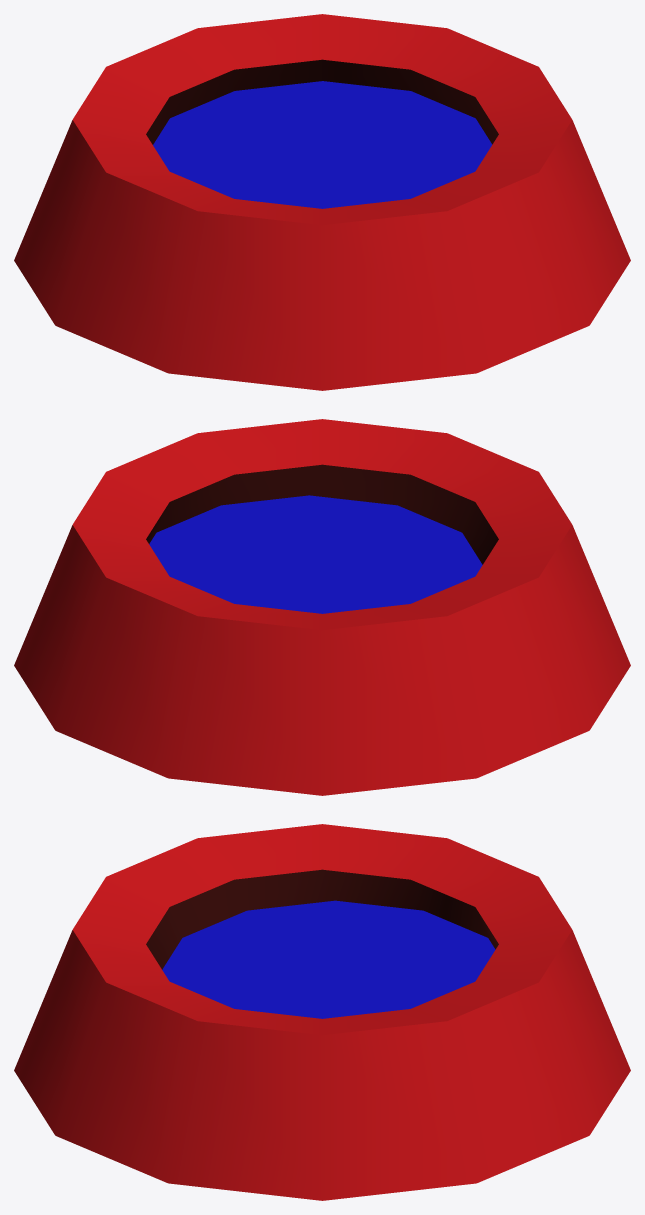
The model's file is DogBowl.fbx.
3 renders of one model, top to bottom at view 1: azimuth 30°, elevation 25°; view 2: azimuth 150°, elevation 25°; view 3: azimuth 270°, elevation 25°, orthographic.
Parts seen in each view (by area): view 1: DogBowl; view 2: DogBowl; view 3: DogBowl.
Part boxes in pixels (box(x1,y1,x2,y2)): DogBowl: box(14, 14, 630, 390); DogBowl: box(14, 419, 630, 795); DogBowl: box(14, 824, 630, 1200).
Bounding box in the file's own units: 200 × 200 × 50.39.
